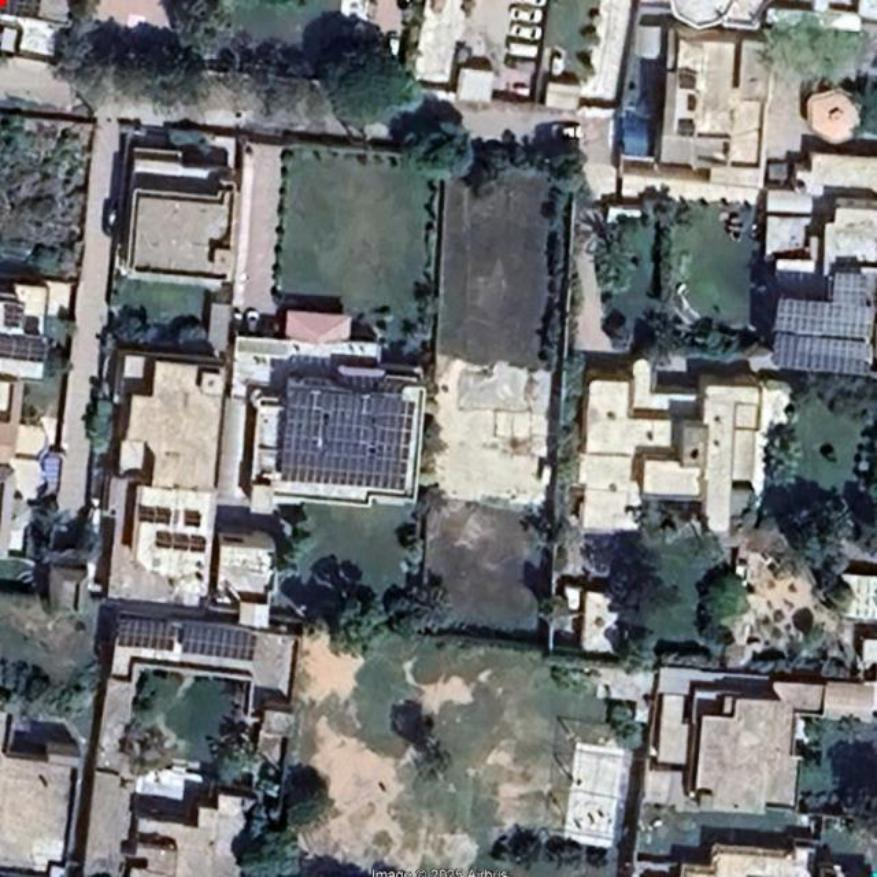Solarpanel: (281, 390, 413, 484), (774, 297, 874, 343), (775, 333, 871, 374), (180, 626, 254, 660), (118, 619, 173, 648), (0, 332, 48, 362), (830, 269, 866, 305)
